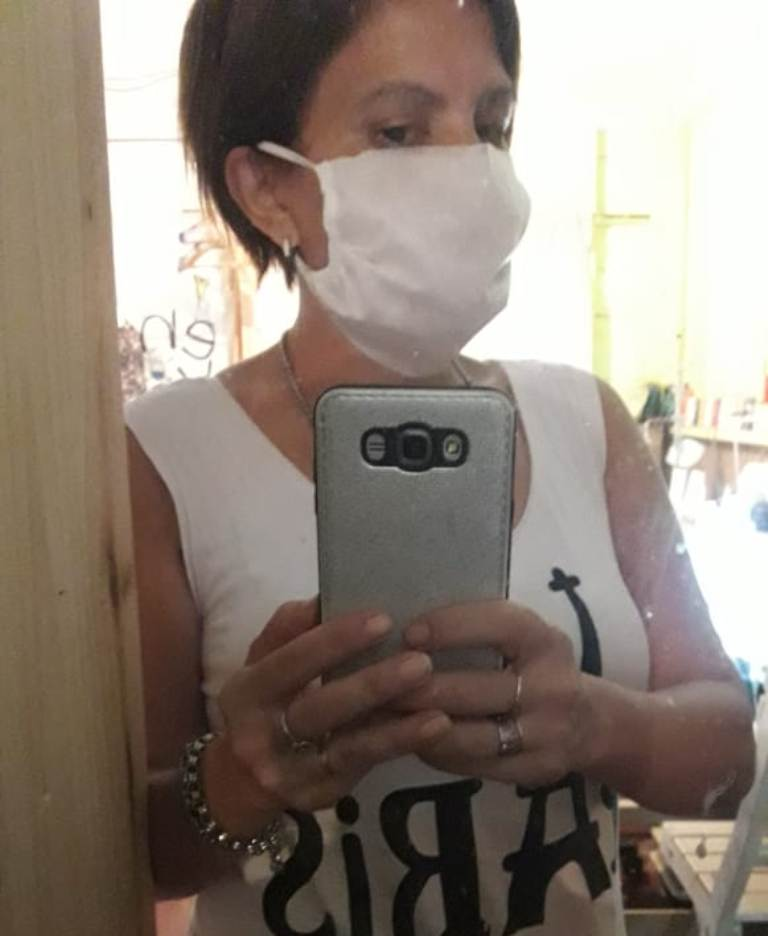barbijo: (221, 131, 536, 377)
